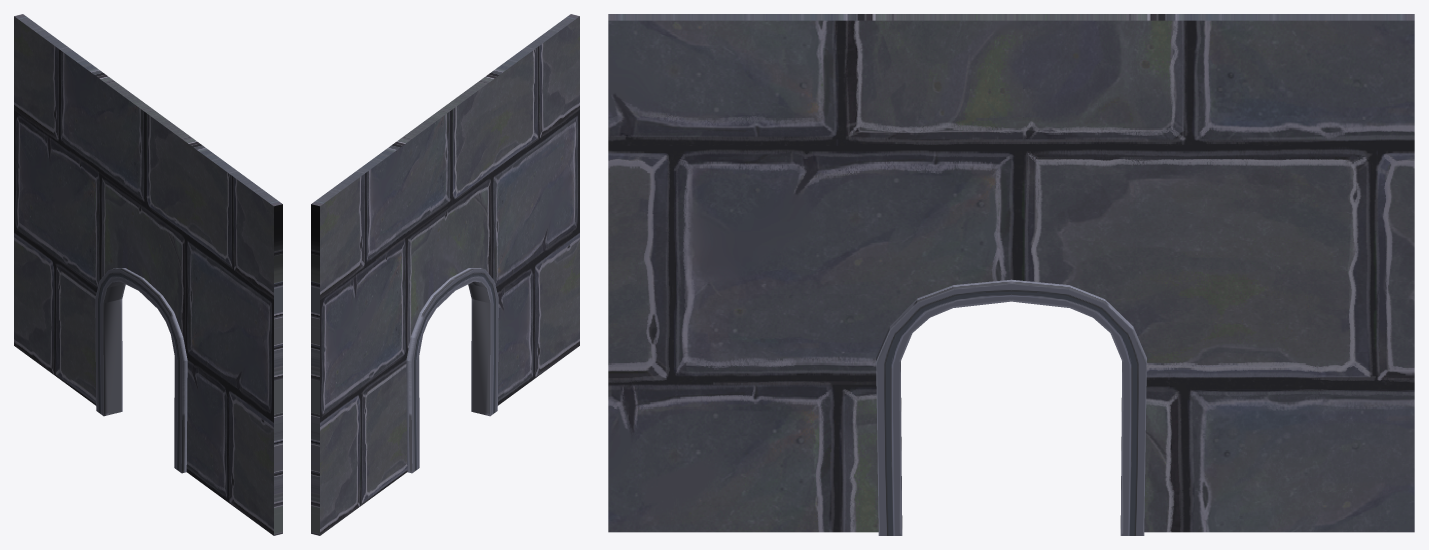
The model's file is dungeon_corridor_door.fbx.
3 renders of one model, left to right at view 1: azimuth 30°, elevation 25°; view 2: azimuth 150°, elevation 25°; view 3: azimuth 270°, elevation 25°, orthographic. The views are drawn at different scales.
Visible parts, largest first — view 1: suelo.003_Mesh.001; view 2: suelo.003_Mesh.001; view 3: suelo.003_Mesh.001.
Part boxes in pixels (x1,y1,x2,y2): suelo.003_Mesh.001: (14, 14, 282, 535); suelo.003_Mesh.001: (311, 14, 579, 535); suelo.003_Mesh.001: (608, 14, 1414, 535).
Bounding box in the file's own units: 42.31 × 700 × 1000.
